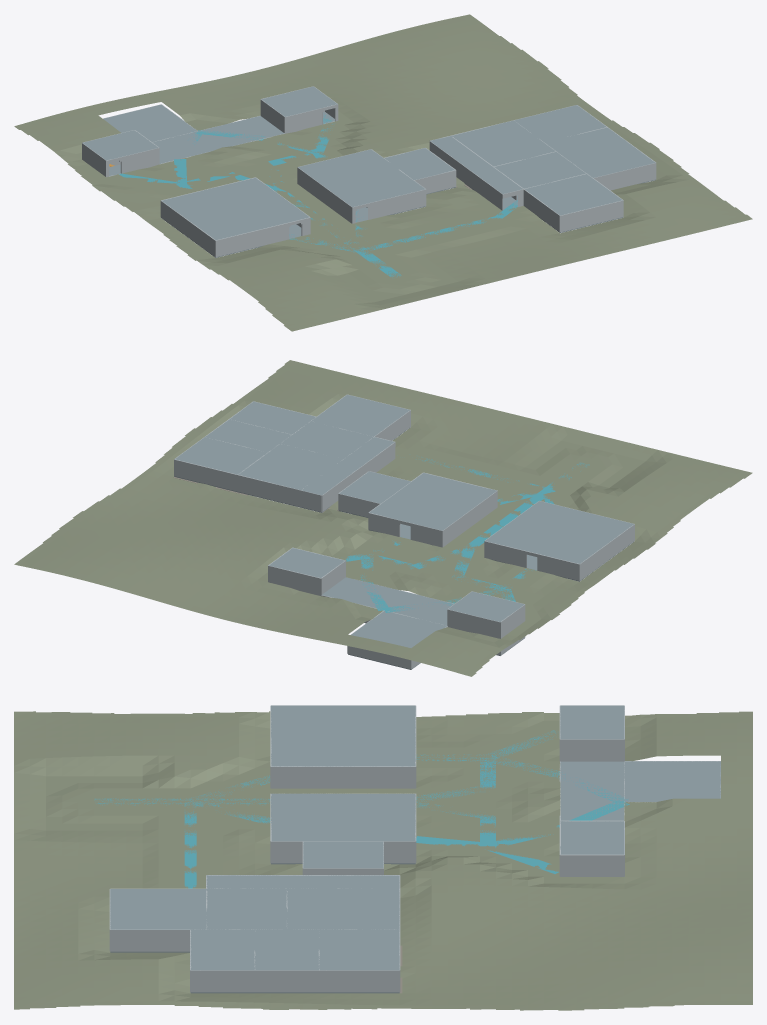
Rendered from open-circulation.glb.
3 views of the same model, one above another, from view 1: azimuth 30°, elevation 25°; view 2: azimuth 150°, elevation 25°; view 3: azimuth 270°, elevation 25° (orthographic). The views are drawn at different scales.
Visible parts, largest first — view 1: Saved editor terrain WLD-07-MORTUARY, Ceiling cap chapel, Ceiling cap cottage, Ceiling cap mort-viewing, Ceiling cap mort-bay, Ceiling cap mort-prep, Ceiling cap chamber, Ceiling cap mort-reception, Ceiling cap mort-office, Ceiling cap mort-cold, Ceiling cap mort-hall, Flat route shell Wall chapel S (+16 smaller); view 2: Saved editor terrain WLD-07-MORTUARY, Ceiling cap chapel, Ceiling cap cottage, Ceiling cap mort-viewing, Ceiling cap mort-bay, Ceiling cap chamber, Ceiling cap mort-reception, Ceiling cap mort-prep, Ceiling cap mort-hall, Ceiling cap mort-cold, Ceiling cap mort-office, Ceiling cap west-stair (+18 smaller); view 3: Saved editor terrain WLD-07-MORTUARY, Ceiling cap chapel, Ceiling cap cottage, Ceiling cap mort-viewing, Ceiling cap mort-bay, Ceiling cap chamber, Ceiling cap mort-prep, Wall chapel E, Ceiling cap mort-reception, Ceiling cap mort-hall, Ceiling cap mort-cold, Ceiling cap mort-office (+16 smaller).
Part boxes in pixels (box(x1,y1,x2,y2)): Saved editor terrain WLD-07-MORTUARY: box(14, 14, 752, 331); Ceiling cap chapel: box(162, 177, 309, 239); Ceiling cap cottage: box(298, 149, 425, 206); Ceiling cap mort-viewing: box(452, 120, 555, 166); Ceiling cap mort-bay: box(525, 174, 622, 215); Ceiling cap mort-prep: box(514, 105, 606, 142); Ceiling cap chamber: box(103, 104, 196, 141); Ceiling cap mort-reception: box(494, 152, 585, 188); Ceiling cap mort-office: box(569, 145, 655, 177); Ceiling cap mort-cold: box(545, 127, 630, 160); Ceiling cap mort-hall: box(430, 136, 522, 193); Flat route shell Wall chapel S: box(215, 222, 290, 256); Saved editor terrain WLD-07-MORTUARY: box(14, 360, 752, 676); Ceiling cap chapel: box(485, 501, 633, 563); Ceiling cap cottage: box(369, 473, 496, 530); Ceiling cap mort-viewing: box(238, 443, 342, 490); Ceiling cap mort-bay: box(311, 394, 409, 436); Ceiling cap chamber: box(351, 611, 446, 647); Ceiling cap mort-reception: box(280, 421, 373, 458); Ceiling cap mort-prep: box(175, 437, 267, 474); Ceiling cap mort-hall: box(301, 437, 394, 495); Ceiling cap mort-cold: box(205, 419, 291, 452); Ceiling cap mort-office: box(230, 401, 315, 434); Ceiling cap west-stair: box(448, 591, 524, 621); Saved editor terrain WLD-07-MORTUARY: box(14, 711, 752, 1010); Ceiling cap chapel: box(271, 705, 415, 766); Ceiling cap cottage: box(271, 793, 415, 841); Ceiling cap mort-viewing: box(287, 889, 399, 929); Ceiling cap mort-bay: box(110, 889, 206, 929); Ceiling cap chamber: box(624, 761, 720, 801); Ceiling cap mort-prep: box(319, 929, 399, 970); Wall chapel E: box(271, 766, 415, 788); Ceiling cap mort-reception: box(206, 889, 286, 929); Ceiling cap mort-hall: box(206, 875, 399, 888); Ceiling cap mort-cold: box(255, 929, 319, 970); Ceiling cap mort-office: box(190, 929, 254, 970).
Bounding box in the file's own units: 88 × 6.16 × 92.
